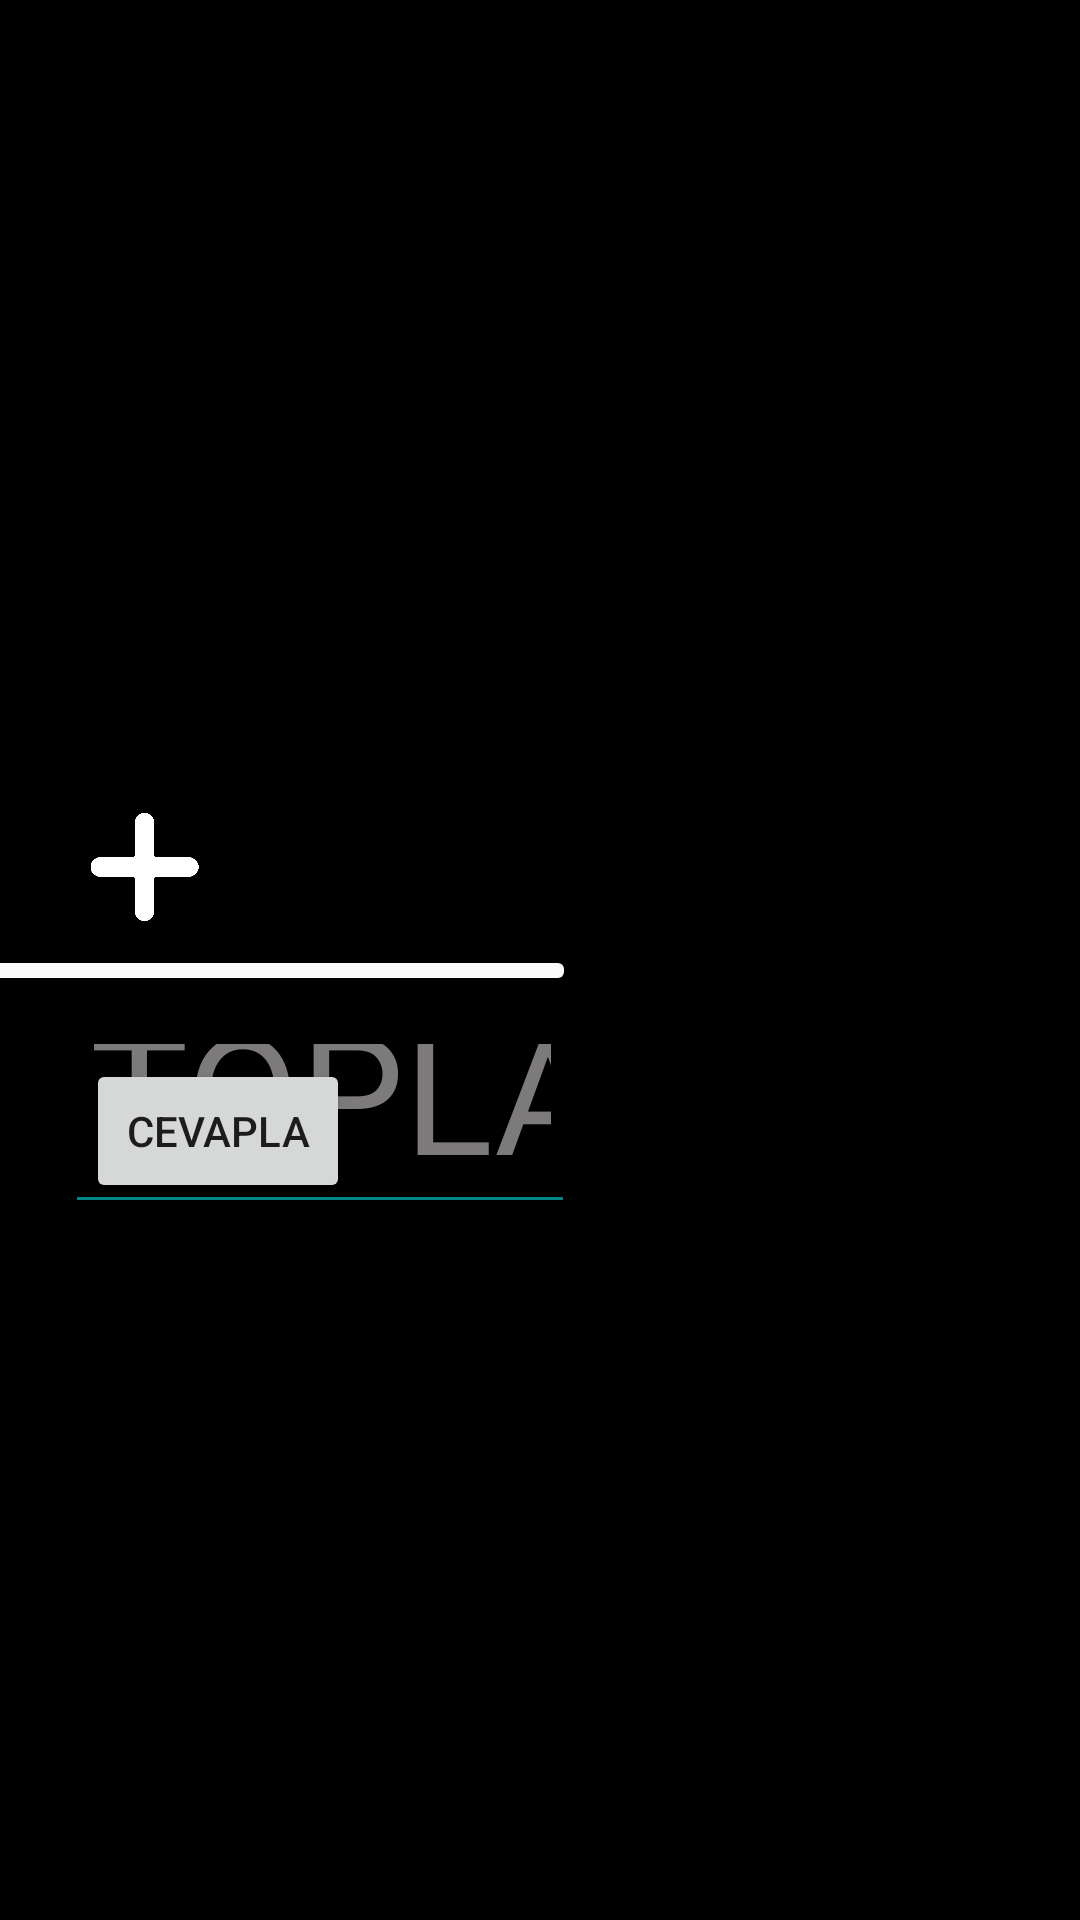

Icons on this 1080 × 1920 Android screen, each with the point to tap as (x,y):
add: (145,867)
